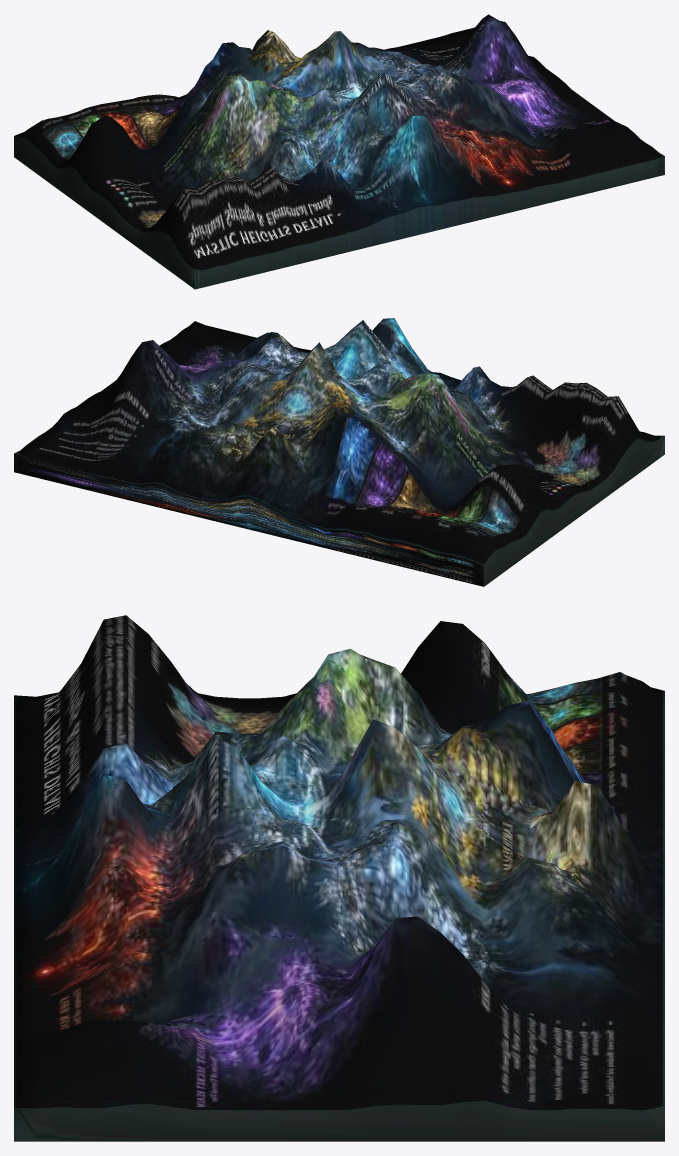
Rendered from DISTRICT_13_Mystic_Heights_Spiritual_Springs.glb.
3 views of the same model, one above another, from view 1: azimuth 30°, elevation 25°; view 2: azimuth 150°, elevation 25°; view 3: azimuth 270°, elevation 25° (orthographic). The views are drawn at different scales.
Parts seen in each view (by area): view 1: DISTRICT_13_Mystic_Heights_Spiritual_Springs; view 2: DISTRICT_13_Mystic_Heights_Spiritual_Springs; view 3: DISTRICT_13_Mystic_Heights_Spiritual_Springs.
Part boxes in pixels (x1,y1,x2,y2): DISTRICT_13_Mystic_Heights_Spiritual_Springs: (14,14,664,289); DISTRICT_13_Mystic_Heights_Spiritual_Springs: (14,318,664,586); DISTRICT_13_Mystic_Heights_Spiritual_Springs: (14,615,664,1141).
Size of the model in its own units: 2 by 0.51 by 1.33.
Materials: 1 (1 with a texture image).
